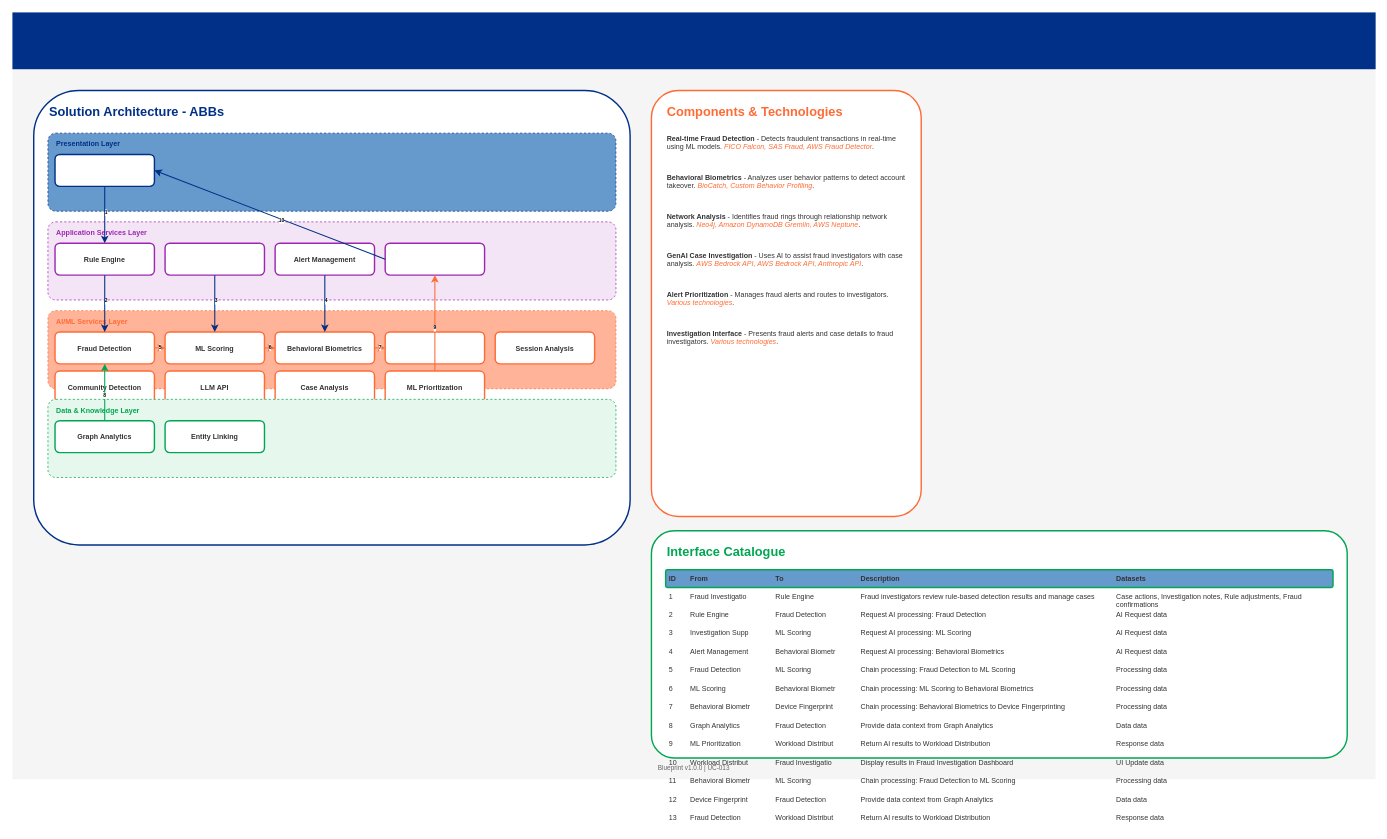
The diagram is 1387 pixels wide and 839 high, and some of its shapes have lost their labels. Here are the shapes that lost their labels. From the top down, the centre of each, then its label:
At (x=693, y=40): "Use Case Blueprint: UC-013 Fraud Ops".
At (x=104, y=170): "Fraud Investigation Dashboard".
At (x=214, y=258): "Investigation Support".
At (x=434, y=258): "Workload Distribution".
At (x=434, y=347): "Device Fingerprinting".
